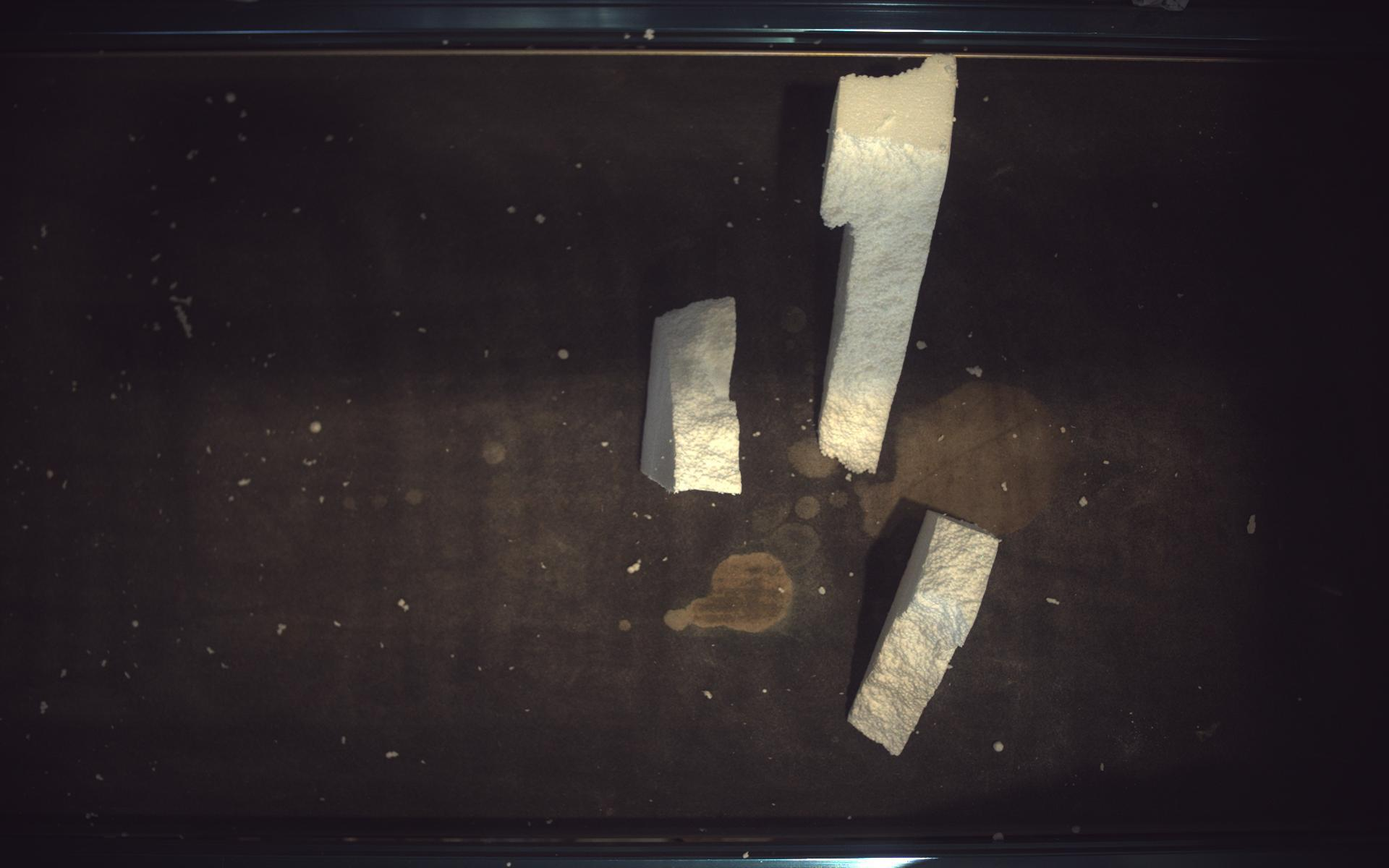foam: (820, 54, 959, 473), (849, 511, 1002, 757), (642, 297, 743, 495)
